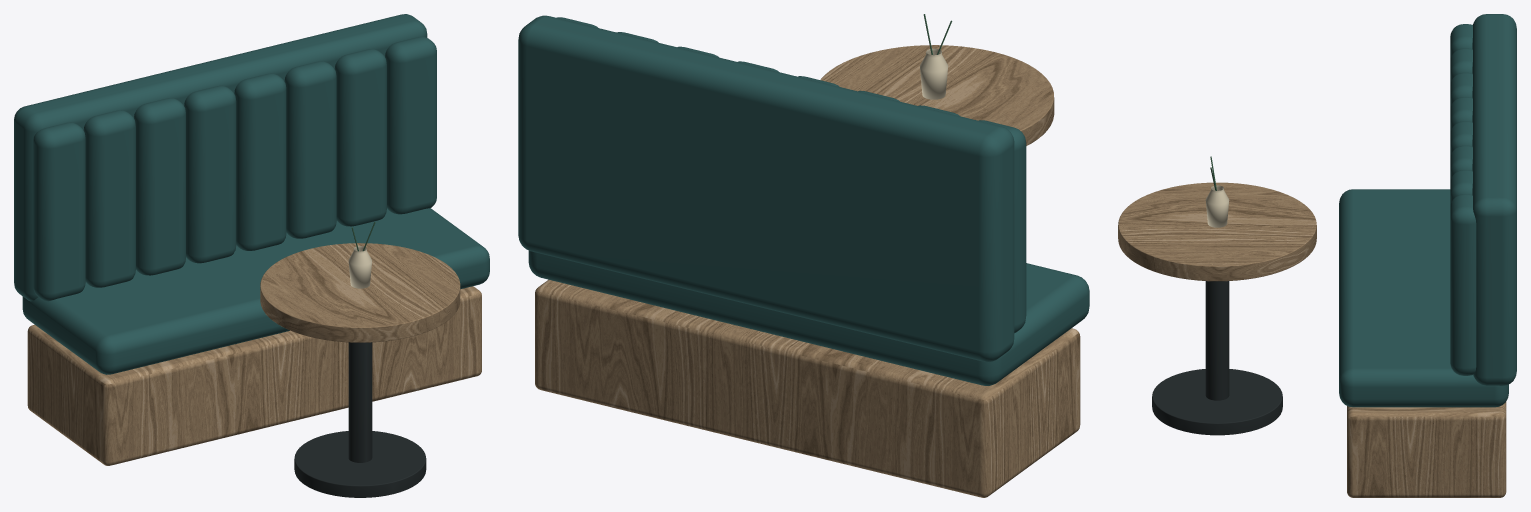
Rendered from modern-bar-nook.glb.
3 renders of one model, left to right at view 1: azimuth 30°, elevation 25°; view 2: azimuth 150°, elevation 25°; view 3: azimuth 270°, elevation 25°, orthographic. The views are drawn at different scales.
Visible parts, largest first — view 1: modern-nook - Modern Bar petrol leather booth upholstery run, modern-nook - Modern Bar satin walnut joinery runtime PBR, modern-nook - Modern Bar powder coated charcoal steel runtim, modern-nook - Modern Bar ivory ceramic runtime PBR; view 2: modern-nook - Modern Bar petrol leather booth upholstery run, modern-nook - Modern Bar satin walnut joinery runtime PBR, modern-nook - Modern Bar ivory ceramic runtime PBR; view 3: modern-nook - Modern Bar petrol leather booth upholstery run, modern-nook - Modern Bar satin walnut joinery runtime PBR, modern-nook - Modern Bar powder coated charcoal steel runtim, modern-nook - Modern Bar ivory ceramic runtime PBR.
Boxes of the visible parts, x1=… form: modern-nook - Modern Bar petrol leather booth upholstery run: x1=14, y1=14, x2=489, y2=374; modern-nook - Modern Bar satin walnut joinery runtime PBR: x1=27, y1=243, x2=481, y2=465; modern-nook - Modern Bar powder coated charcoal steel runtim: x1=294, y1=342, x2=426, y2=497; modern-nook - Modern Bar ivory ceramic runtime PBR: x1=348, y1=246, x2=371, y2=288; modern-nook - Modern Bar petrol leather booth upholstery run: x1=518, y1=15, x2=1089, y2=385; modern-nook - Modern Bar satin walnut joinery runtime PBR: x1=535, y1=45, x2=1080, y2=497; modern-nook - Modern Bar ivory ceramic runtime PBR: x1=920, y1=48, x2=948, y2=99; modern-nook - Modern Bar petrol leather booth upholstery run: x1=1339, y1=14, x2=1516, y2=407; modern-nook - Modern Bar satin walnut joinery runtime PBR: x1=1118, y1=182, x2=1506, y2=497; modern-nook - Modern Bar powder coated charcoal steel runtim: x1=1152, y1=281, x2=1282, y2=435; modern-nook - Modern Bar ivory ceramic runtime PBR: x1=1205, y1=185, x2=1229, y2=227.
Size of the model in its own units: 1.76 by 1.28 by 1.52.
Materials: 5 (1 with a texture image).
